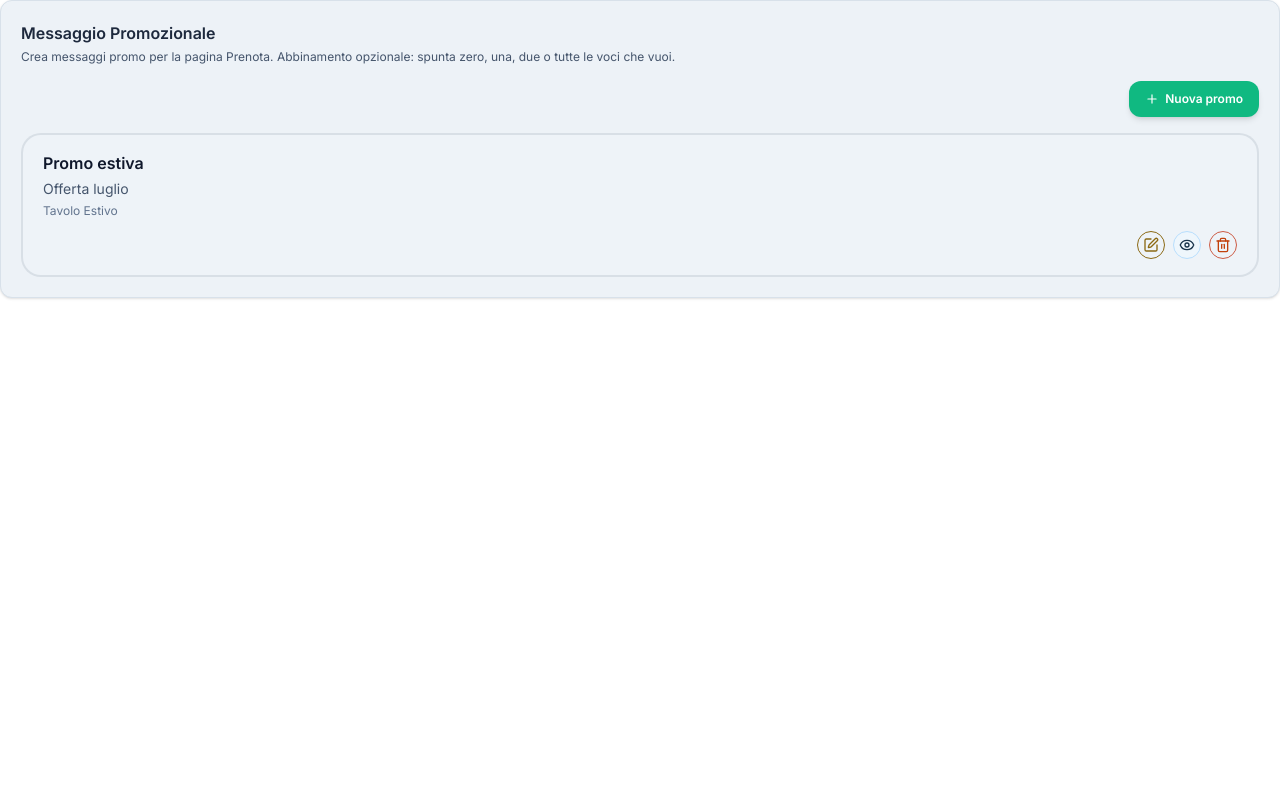
Test: settings-promo label dinamiche da config › editor promo mostra checkbox tipologia con label da config
Click the button "Nuova promo": (1194, 99) [1129,81,1259,117]
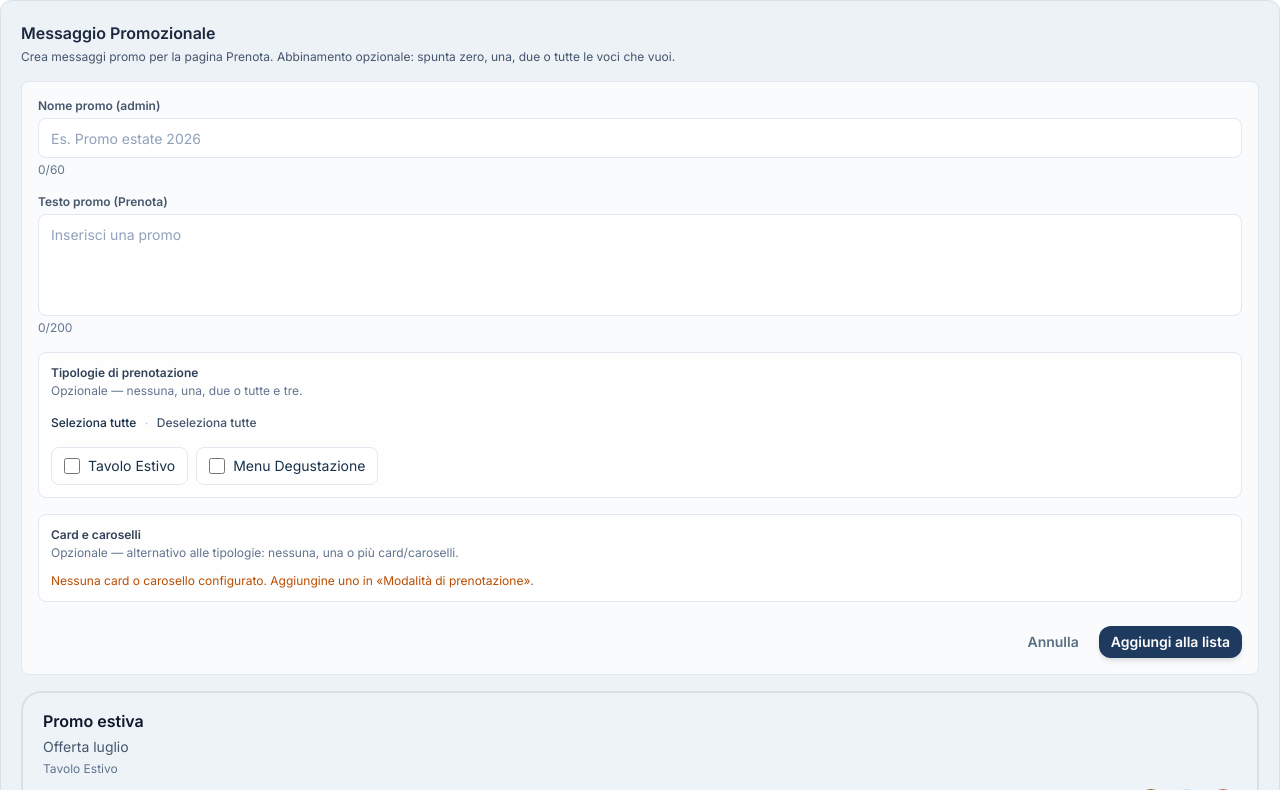
expect the checkbox labelled "Tavolo Estivo" is shown: met, box [64,458,80,474]
expect the checkbox labelled "Menu Degustazione" is shown: met, box [209,458,225,474]
